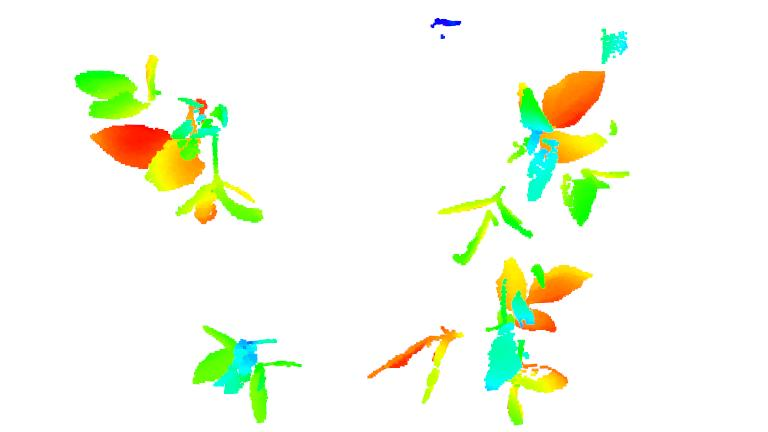mungbean: (367, 260, 607, 422), (452, 62, 621, 275), (73, 50, 269, 227), (187, 317, 303, 427)
